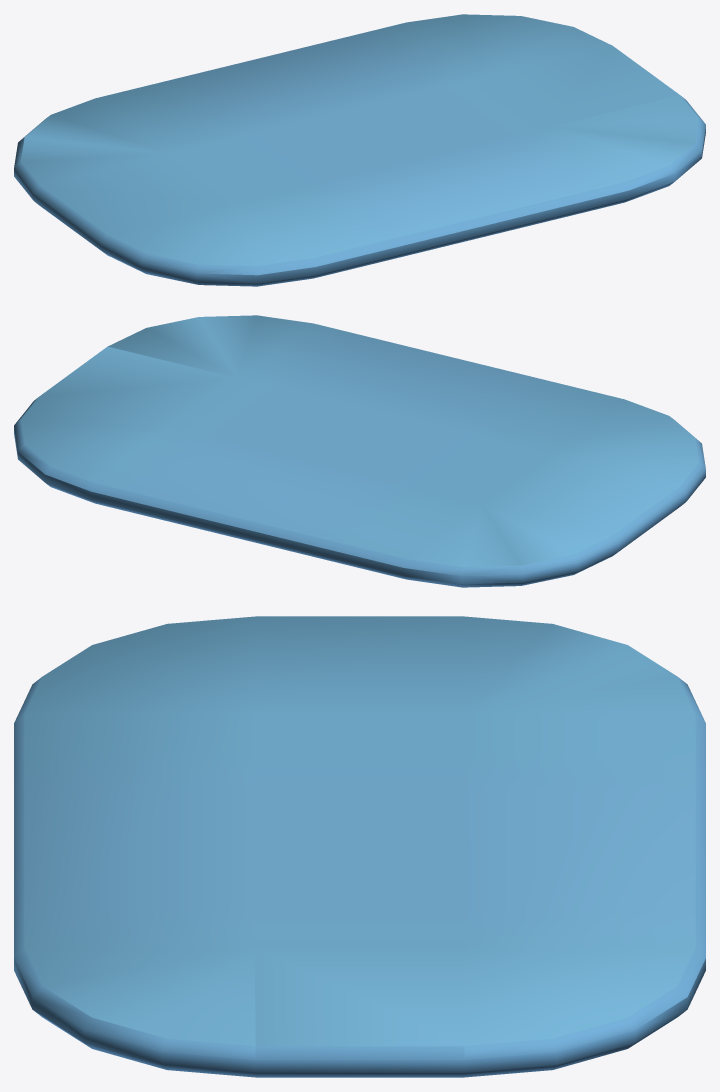
Rendered from kay-tapete-oval-2.gltf.
3 renders of one model, top to bottom at view 1: azimuth 30°, elevation 25°; view 2: azimuth 150°, elevation 25°; view 3: azimuth 270°, elevation 25°, orthographic. The views are drawn at different scales.
Visible parts, largest first — view 1: rug_oval_B; view 2: rug_oval_B; view 3: rug_oval_B.
Part boxes in pixels (left/top/right/bottom): rug_oval_B: left=14, top=14, right=705, bottom=286; rug_oval_B: left=14, top=315, right=705, bottom=587; rug_oval_B: left=14, top=616, right=705, bottom=1077.
Size of the model in its own units: 1.95 by 0.065 by 1.3.
Materials: 1 (1 with a texture image).
